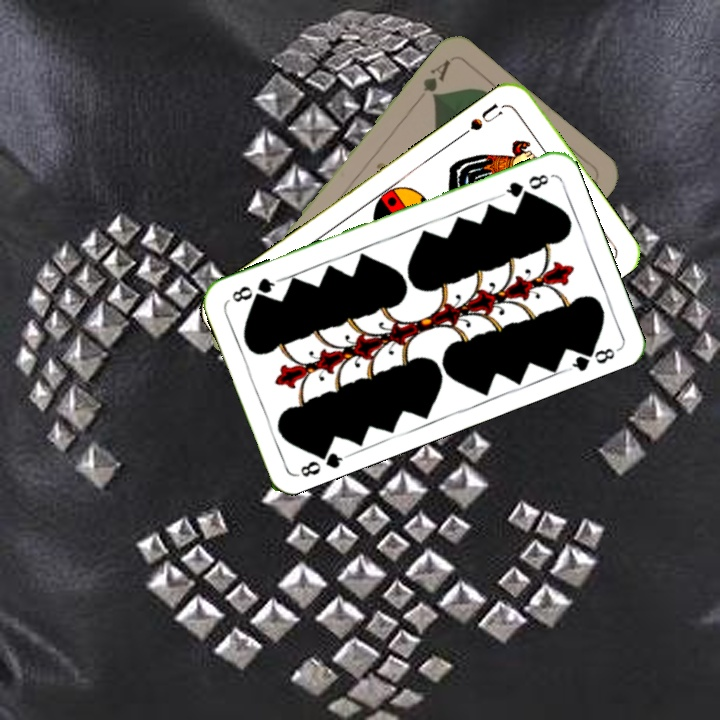G8: (294, 443, 351, 480), (497, 170, 552, 200)
GA: (419, 55, 453, 101)
SU: (456, 99, 509, 140)
